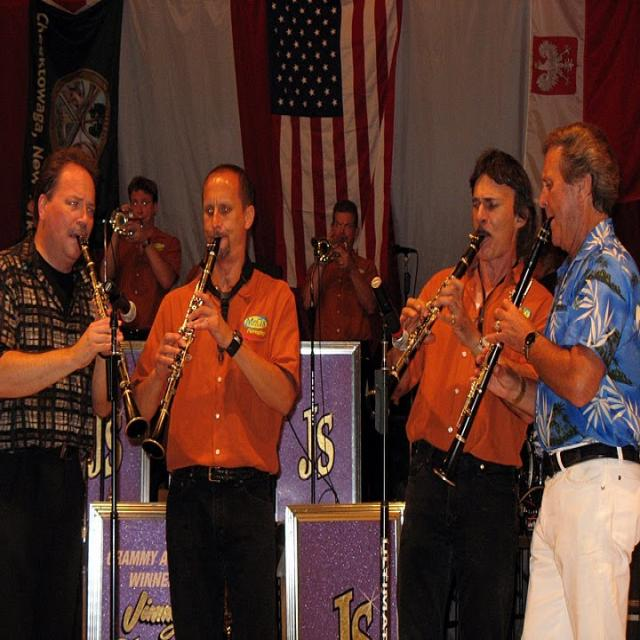clarinet: (430, 219, 552, 490), (140, 235, 222, 462), (382, 230, 488, 396), (74, 234, 147, 442)
